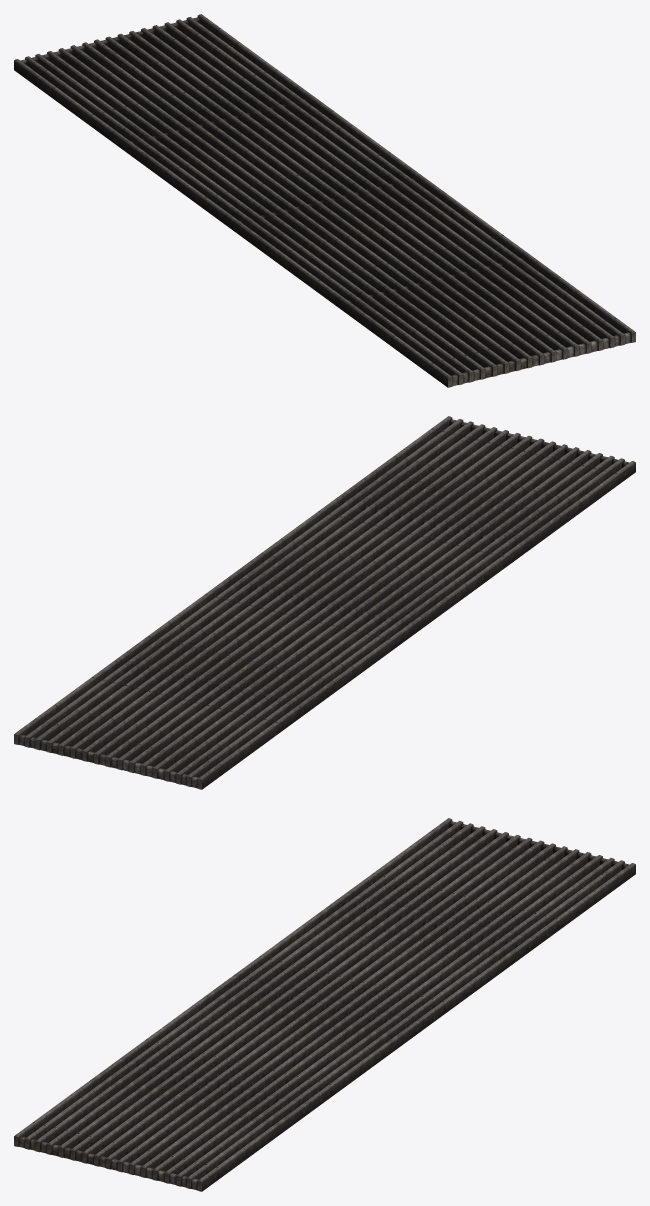
File: floor_grate_metal.dae
3 views of the same model, one above another, from view 1: azimuth 30°, elevation 25°; view 2: azimuth 150°, elevation 25°; view 3: azimuth 330°, elevation 25° (orthographic).
Parts seen in each view (by area): view 1: polySurface24; view 2: polySurface24; view 3: polySurface24.
Boxes of the visible parts, x1,y1,x2,y2 form: polySurface24: (14,14,635,387); polySurface24: (14,416,635,789); polySurface24: (14,818,635,1191).
Size of the model in its own units: 1 by 0.0558 by 4.
